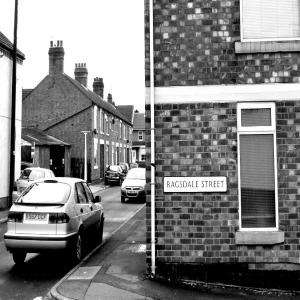Vehicle-registration-plate: (26, 216, 49, 223), (128, 191, 137, 194)
